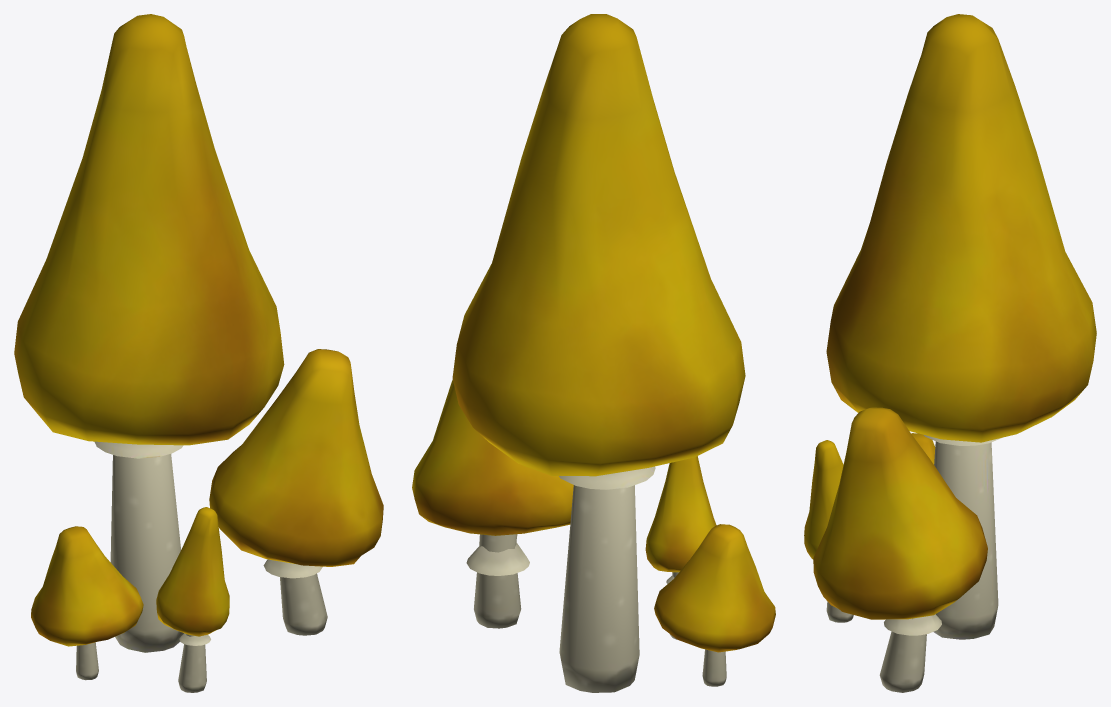
Rendered from Mushroom1.fbx.
3 views of the same model, side by side, from view 1: azimuth 30°, elevation 25°; view 2: azimuth 150°, elevation 25°; view 3: azimuth 270°, elevation 25° (orthographic). The views are drawn at different scales.
Visible parts, largest first — view 1: mushroom; view 2: mushroom; view 3: mushroom.
Part boxes in pixels (<box>): mushroom: <box>14,14,383,692</box>; mushroom: <box>412,14,775,692</box>; mushroom: <box>804,14,1096,692</box>.
Bounding box in the file's own units: 6.34 × 11.49 × 5.02.
1 material, 1 textured.
